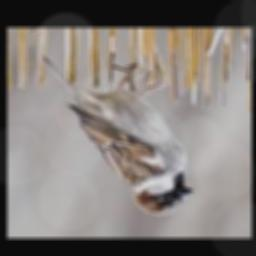Sparrow: (41, 56, 194, 216)
